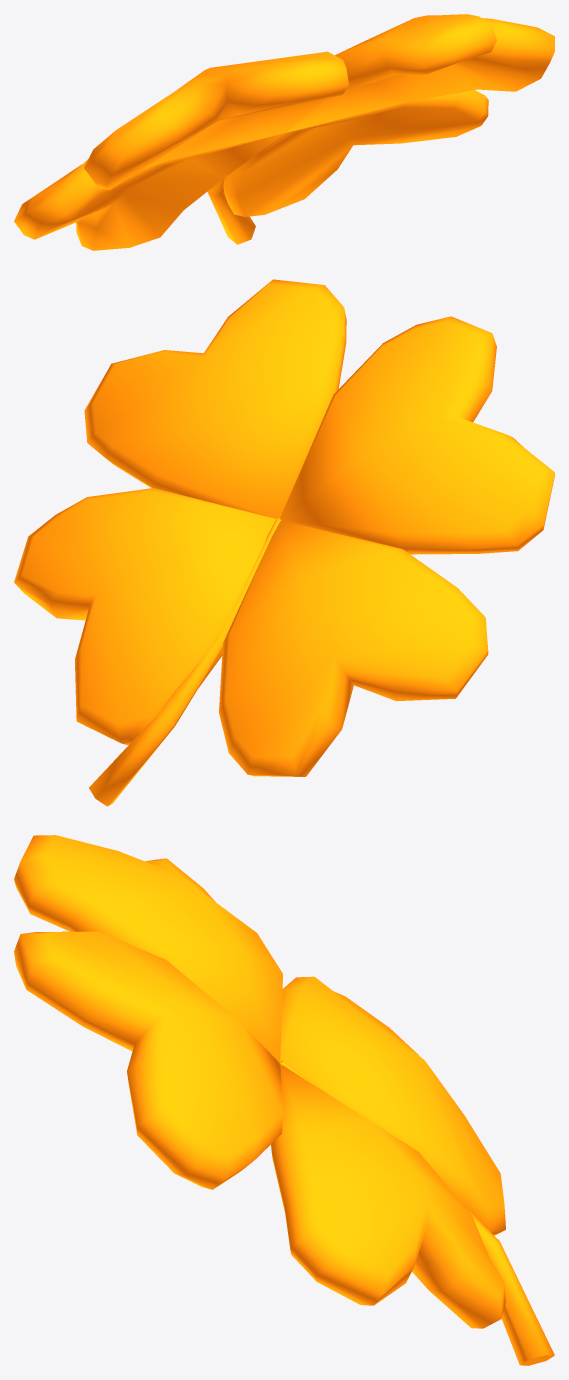
The model's file is BI_Clover.fbx.
3 views of the same model, one above another, from view 1: azimuth 30°, elevation 25°; view 2: azimuth 150°, elevation 25°; view 3: azimuth 270°, elevation 25° (orthographic). The views are drawn at different scales.
Parts seen in each view (by area): view 1: Clover; view 2: Clover; view 3: Clover.
Boxes of the visible parts, x1,y1,x2,y2 form: Clover: (14,14,554,250); Clover: (14,279,554,806); Clover: (14,835,554,1365).
Bounding box in the file's own units: 1.51 × 1.15 × 1.29.
